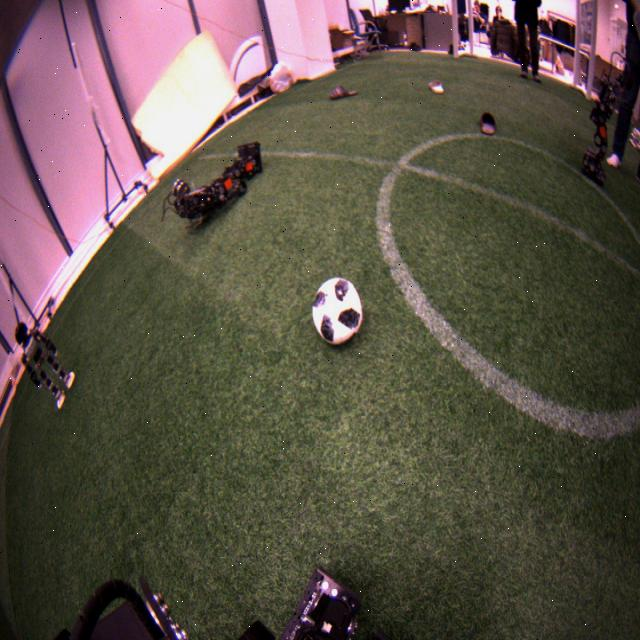ball: (312, 279, 363, 347)
goalpost: (584, 3, 601, 101), (450, 1, 460, 58)
